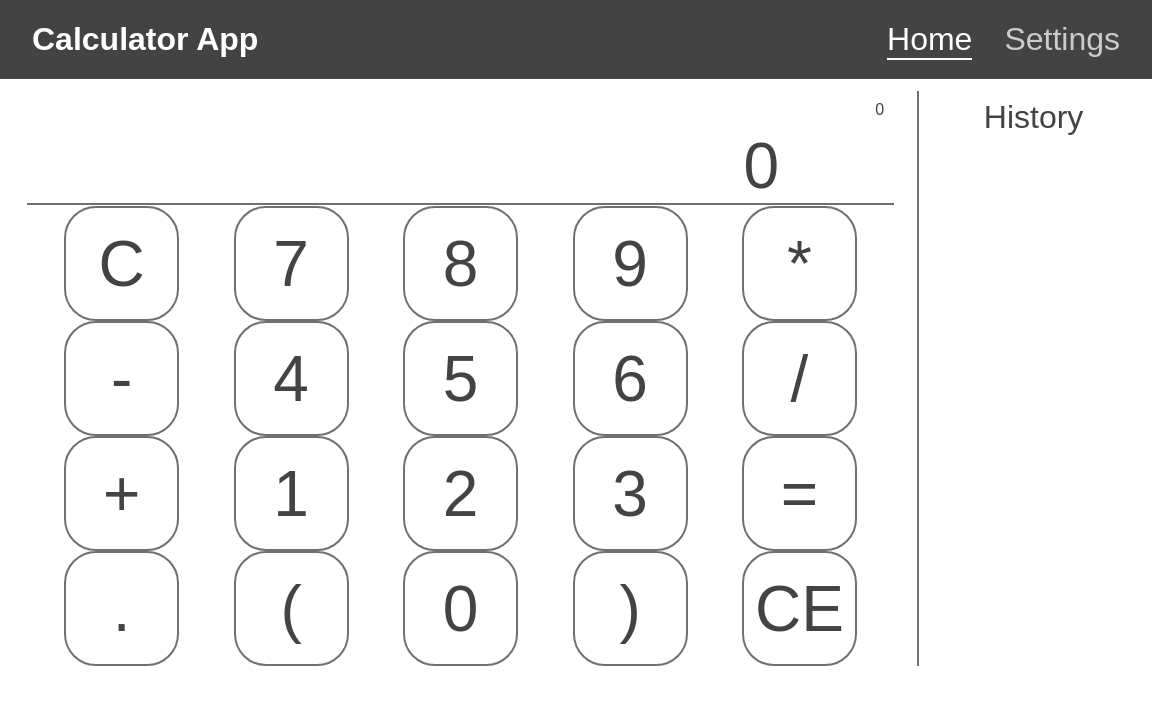
Test case: App E2E › pluse - should return 25 and check hitory component
Click the button "2".
click(461, 494)  # box [403, 436, 518, 551]
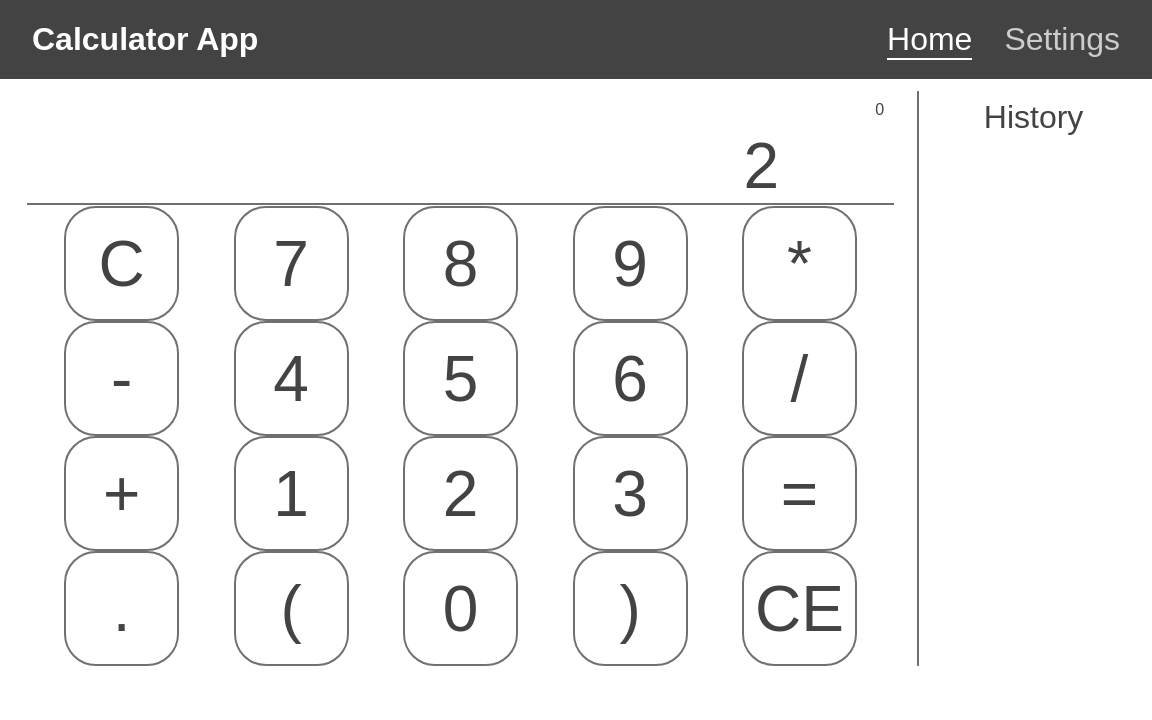
Click the button "0".
click(461, 609)  # box [403, 551, 518, 666]
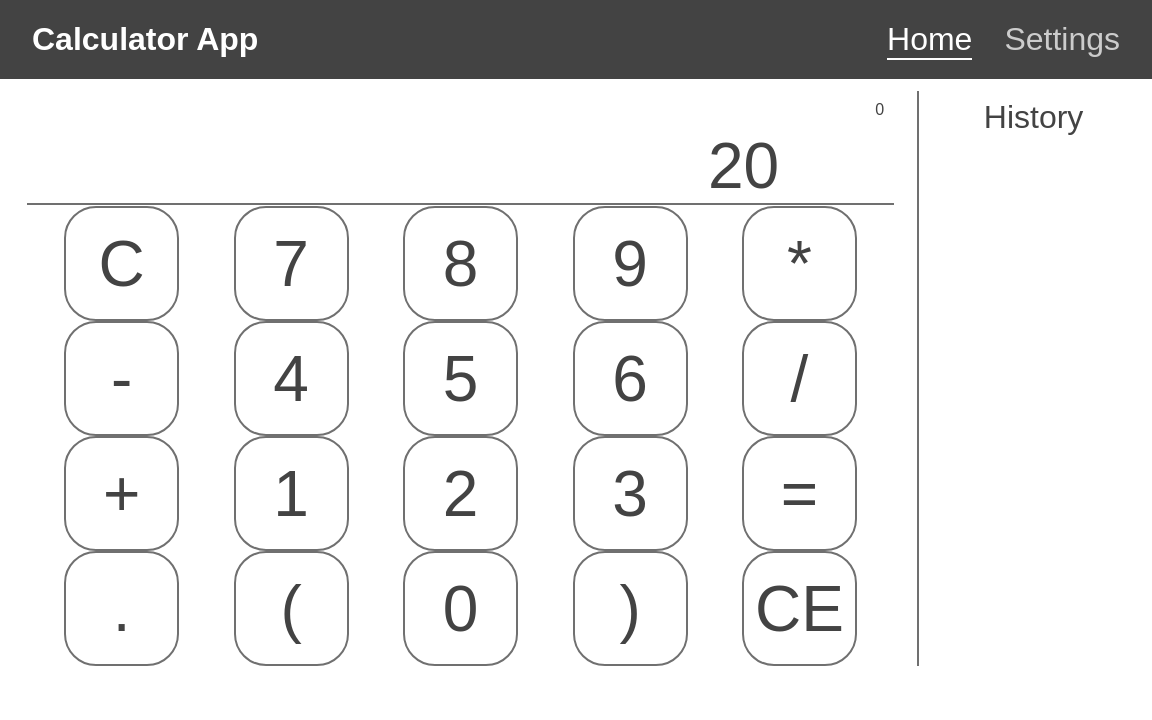
Click the button "+".
click(122, 494)  # box [64, 436, 179, 551]
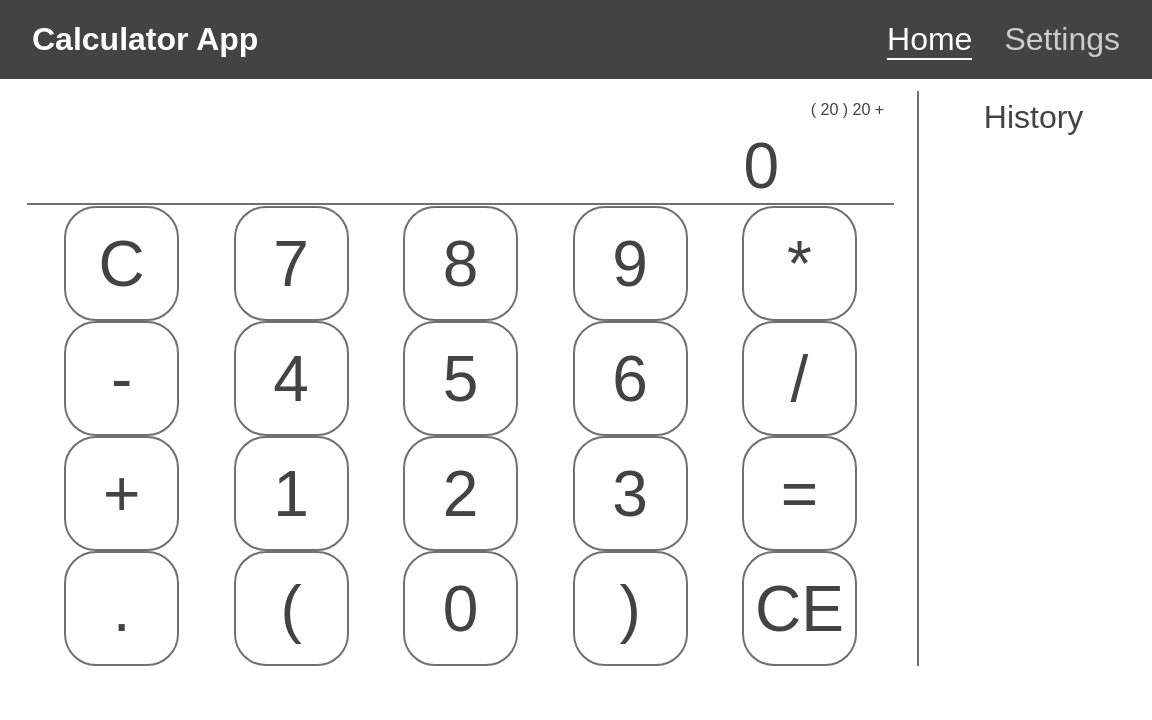
Click the button "5".
click(461, 379)  # box [403, 321, 518, 436]
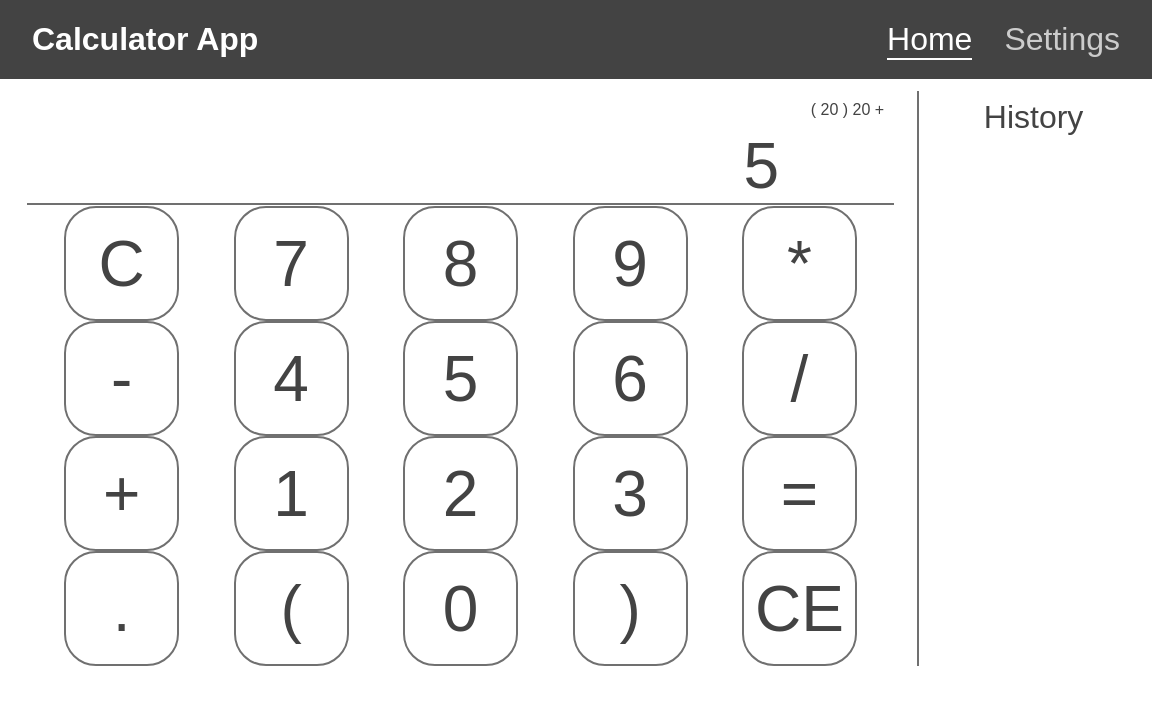
Click the button "=".
click(800, 494)  # box [742, 436, 857, 551]
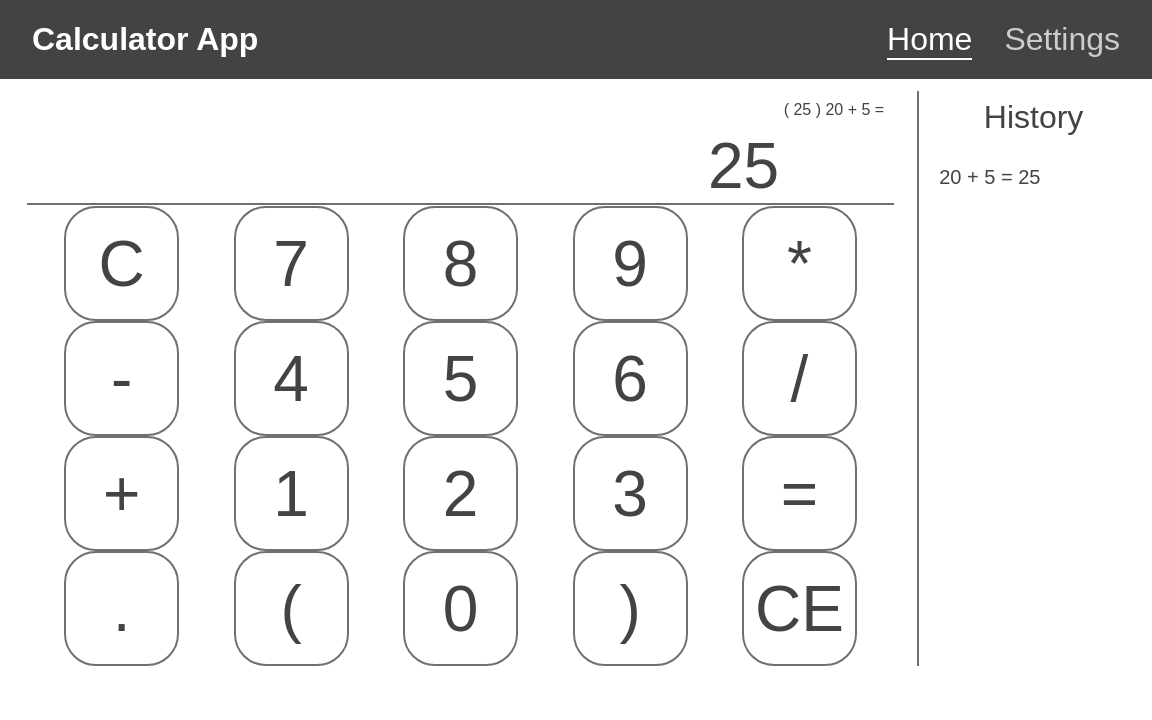
Check: the field holds "25", box [27, 129, 894, 205]
Check: the text "20 + 5 = 25" is shown, box [939, 166, 1040, 188]
